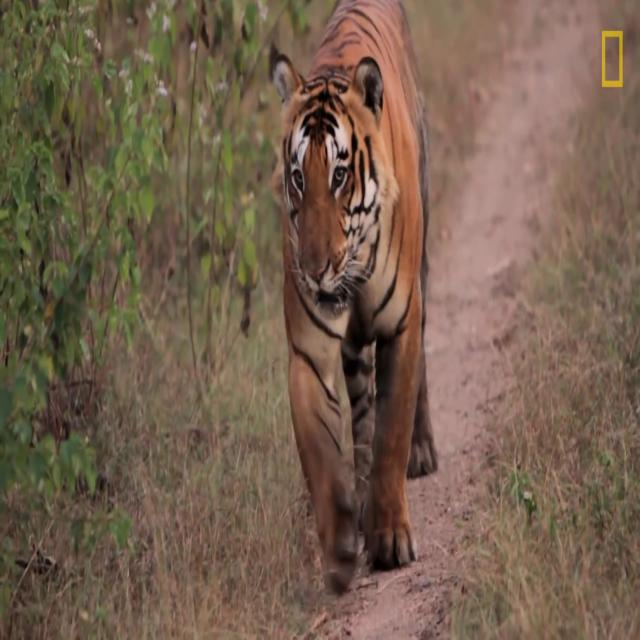TIGER: (265, 2, 443, 582)
